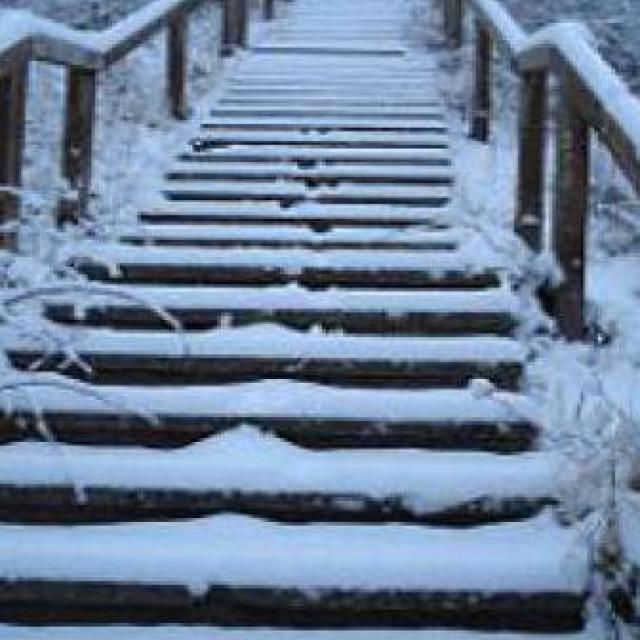Stairs: (11, 6, 600, 601)
